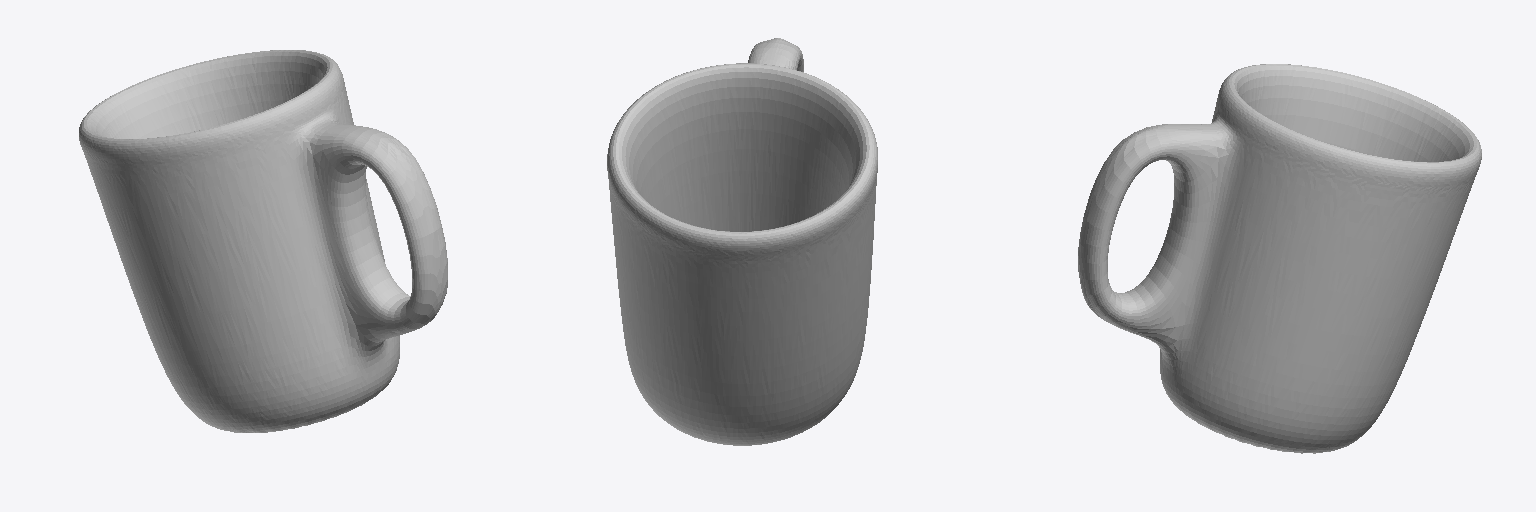
File: coffee.obj
3 views of the same model, side by side, from view 1: azimuth 30°, elevation 25°; view 2: azimuth 150°, elevation 25°; view 3: azimuth 270°, elevation 25° (orthographic).
Parts seen in each view (by area): view 1: coffee_pickup_v1; view 2: coffee_pickup_v1; view 3: coffee_pickup_v1.
Boxes of the visible parts, box(x1,y1,x2,y2) form: coffee_pickup_v1: box(79, 50, 447, 432); coffee_pickup_v1: box(607, 38, 877, 445); coffee_pickup_v1: box(1078, 64, 1481, 453).
Bounding box in the file's own units: 3591 × 4615 × 4968.